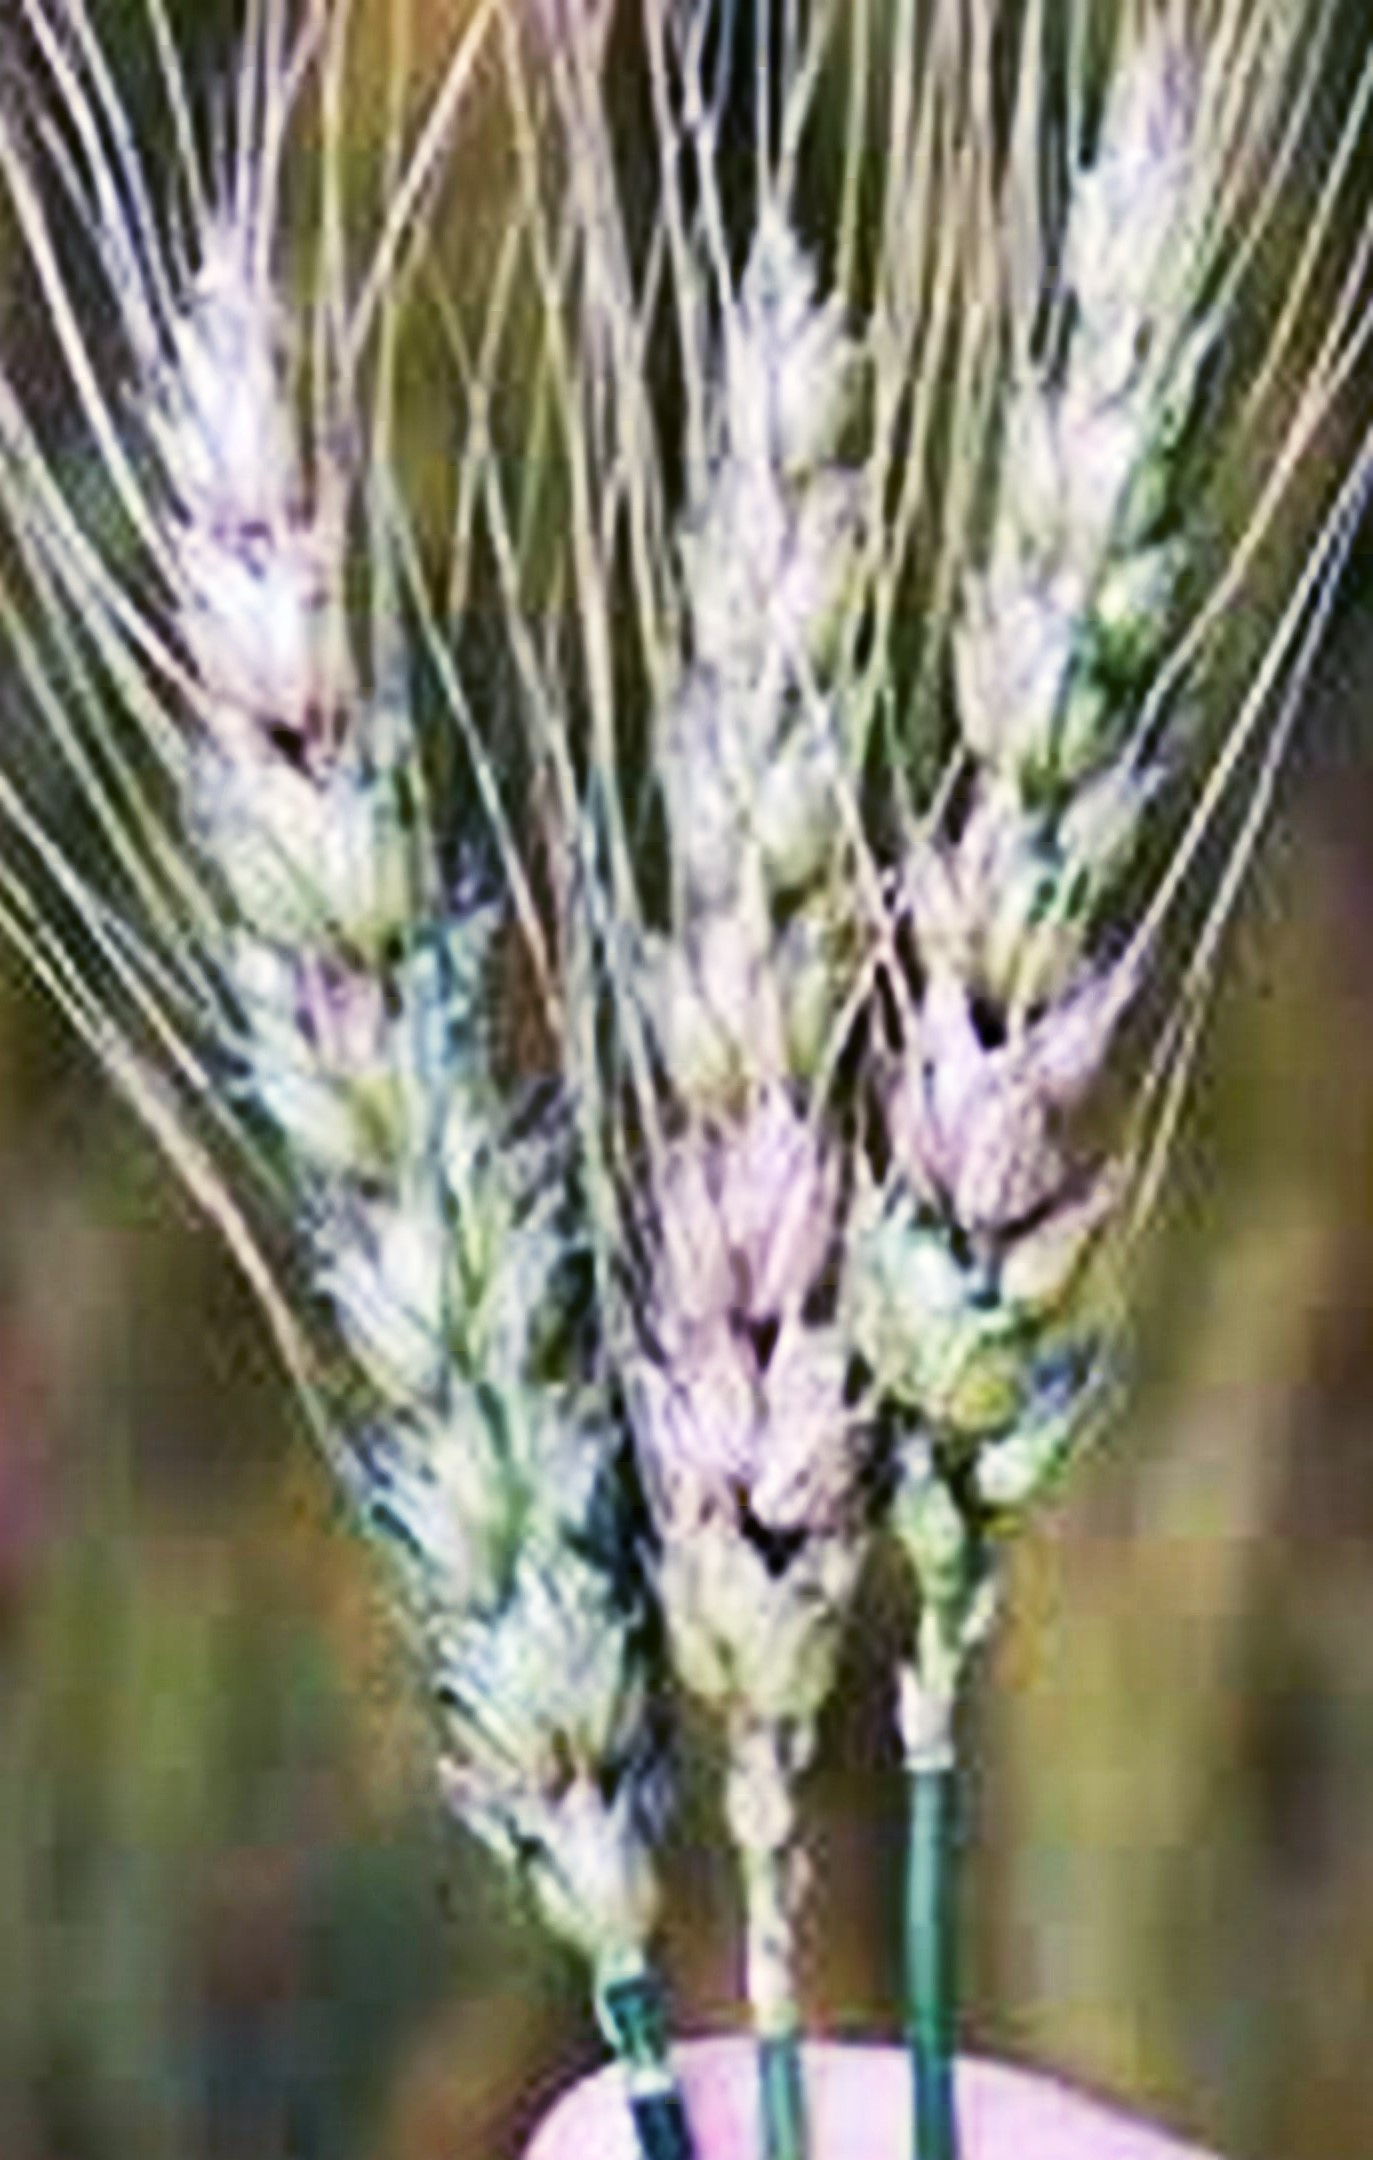Wheat scab: (538, 247, 893, 1782)
